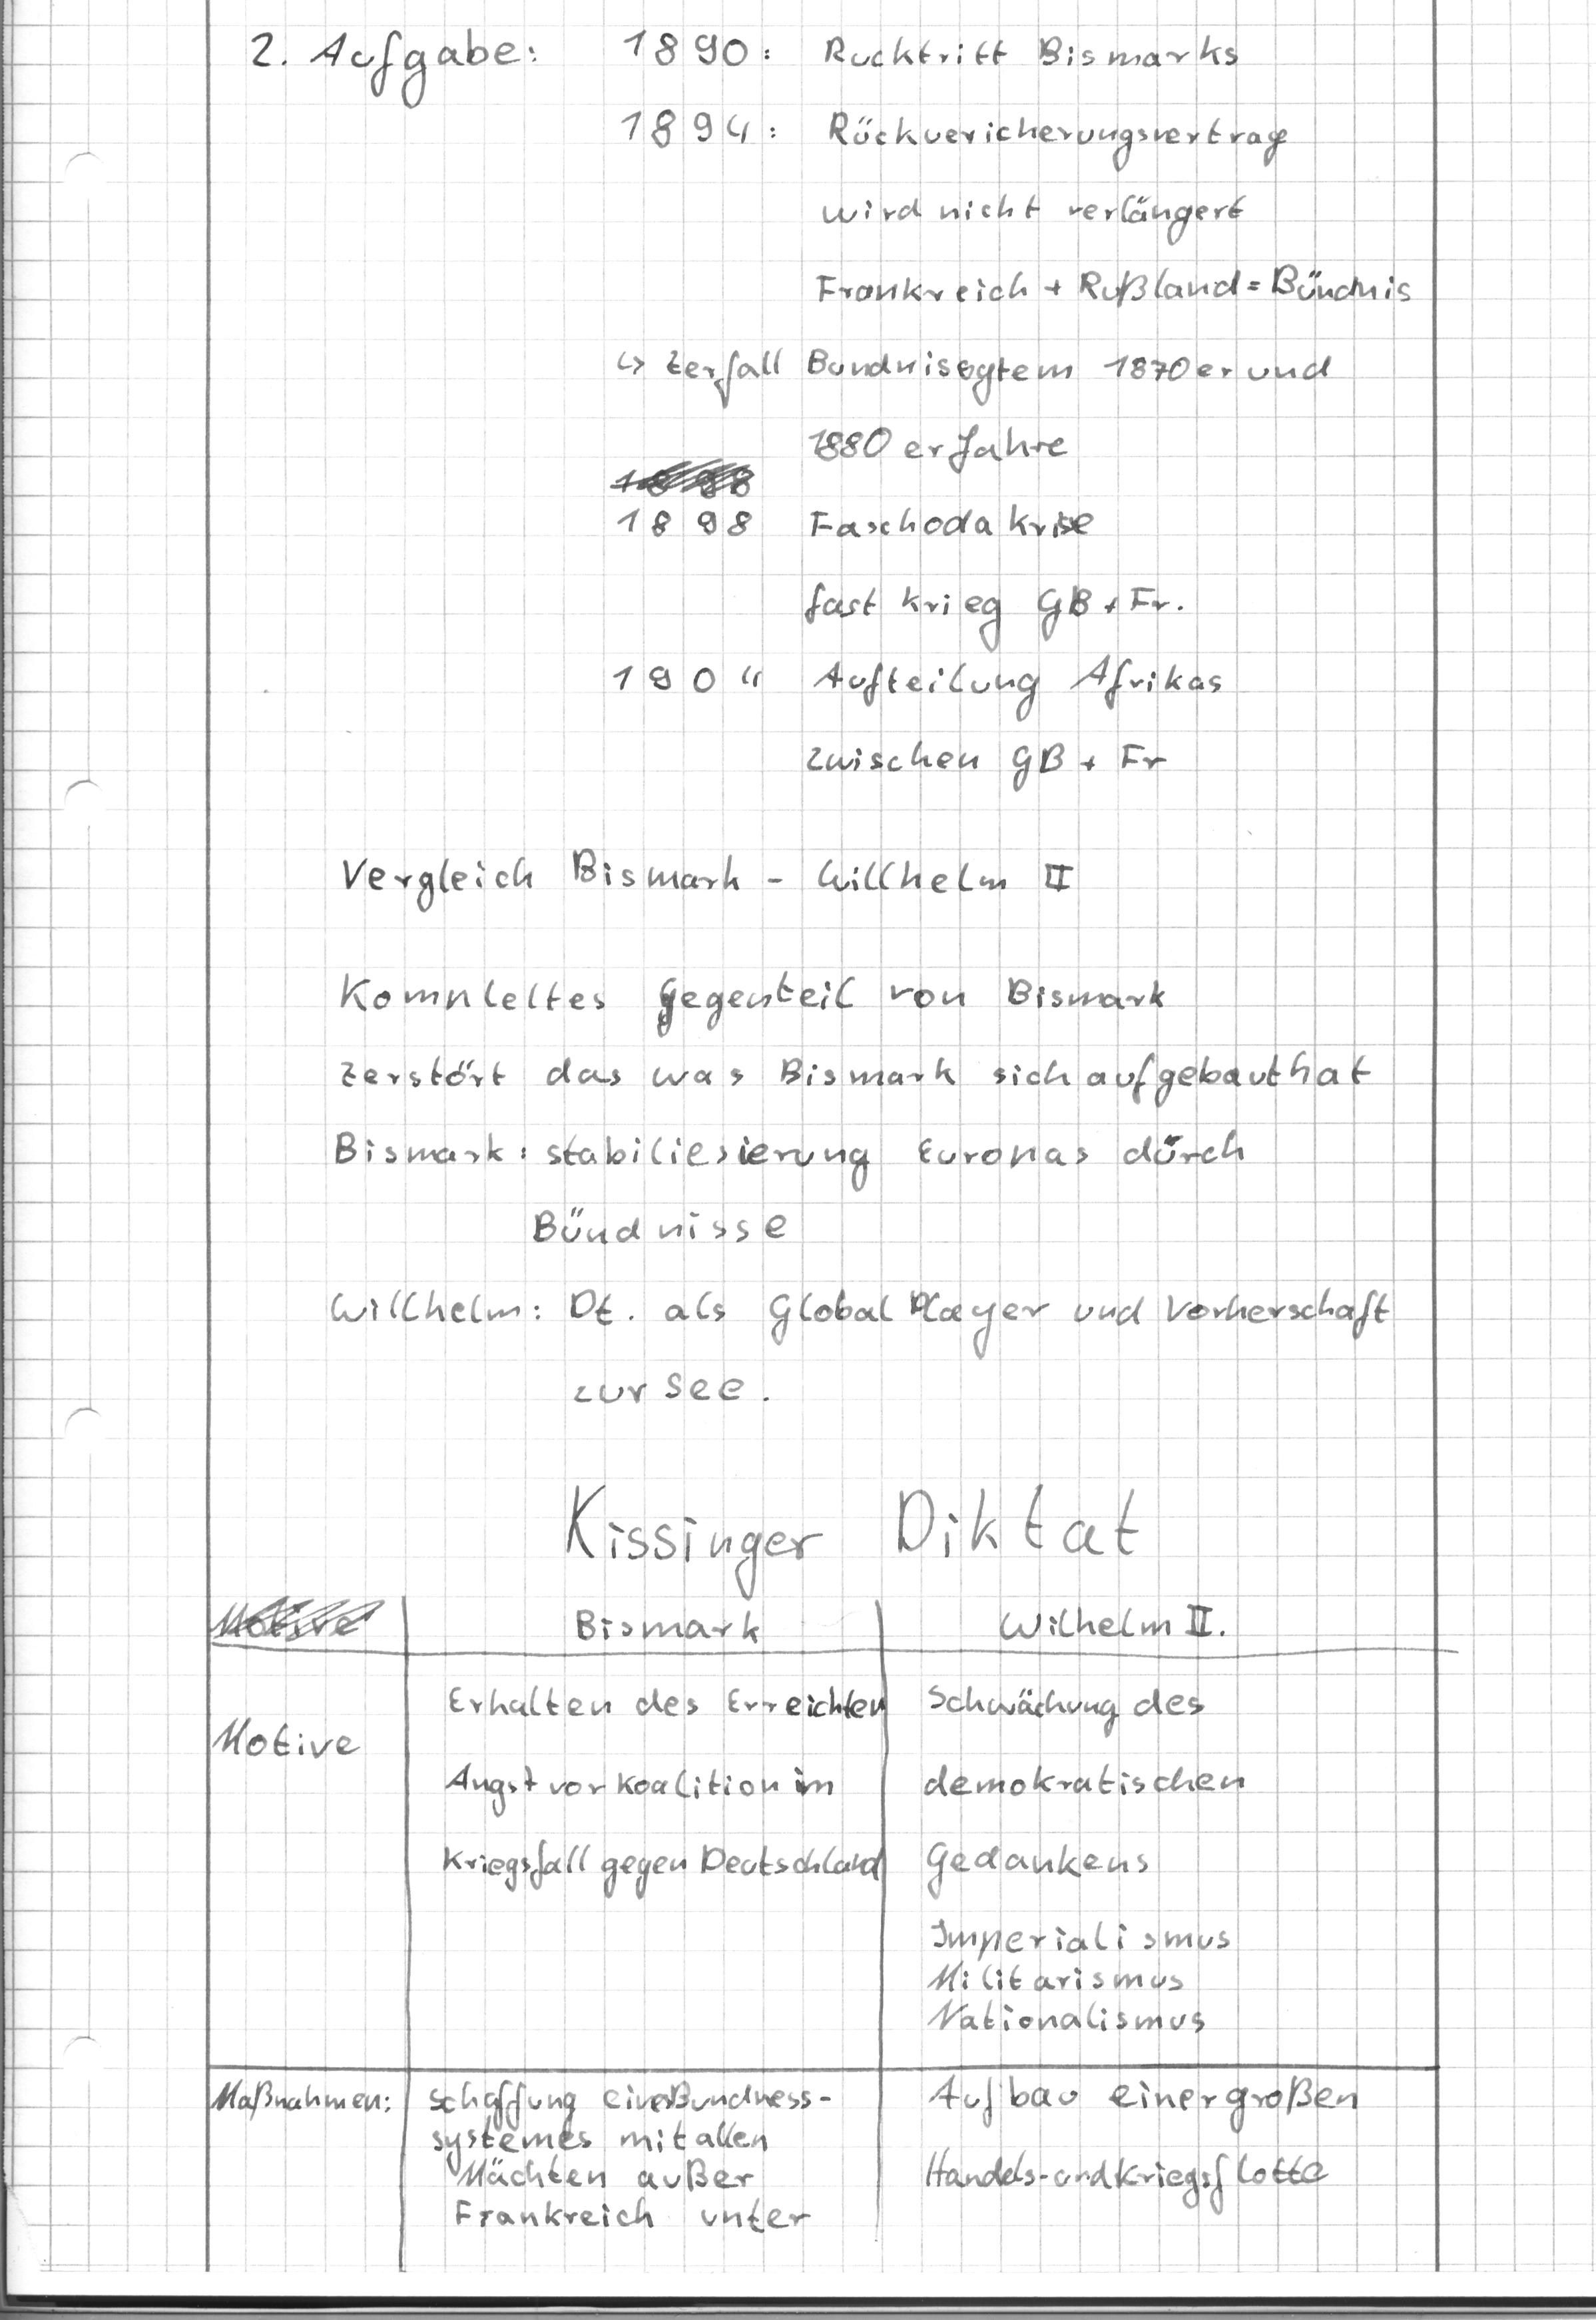word: (316, 957, 1383, 1203), (794, 25, 1424, 318), (557, 1273, 1395, 1413), (432, 1675, 896, 1910), (791, 417, 1193, 656), (553, 1470, 1148, 1601), (914, 1677, 1252, 1904), (423, 2068, 844, 2247), (919, 2061, 1366, 2229), (596, 323, 1353, 420), (324, 828, 1092, 924), (796, 652, 1231, 810), (924, 1907, 1244, 2050), (236, 7, 558, 120), (595, 14, 786, 162), (596, 439, 758, 559), (513, 1189, 804, 1253), (317, 1267, 547, 1342), (987, 1586, 1235, 1652), (198, 2059, 397, 2130), (565, 1584, 780, 1649), (195, 1701, 372, 1779), (598, 641, 776, 717)
